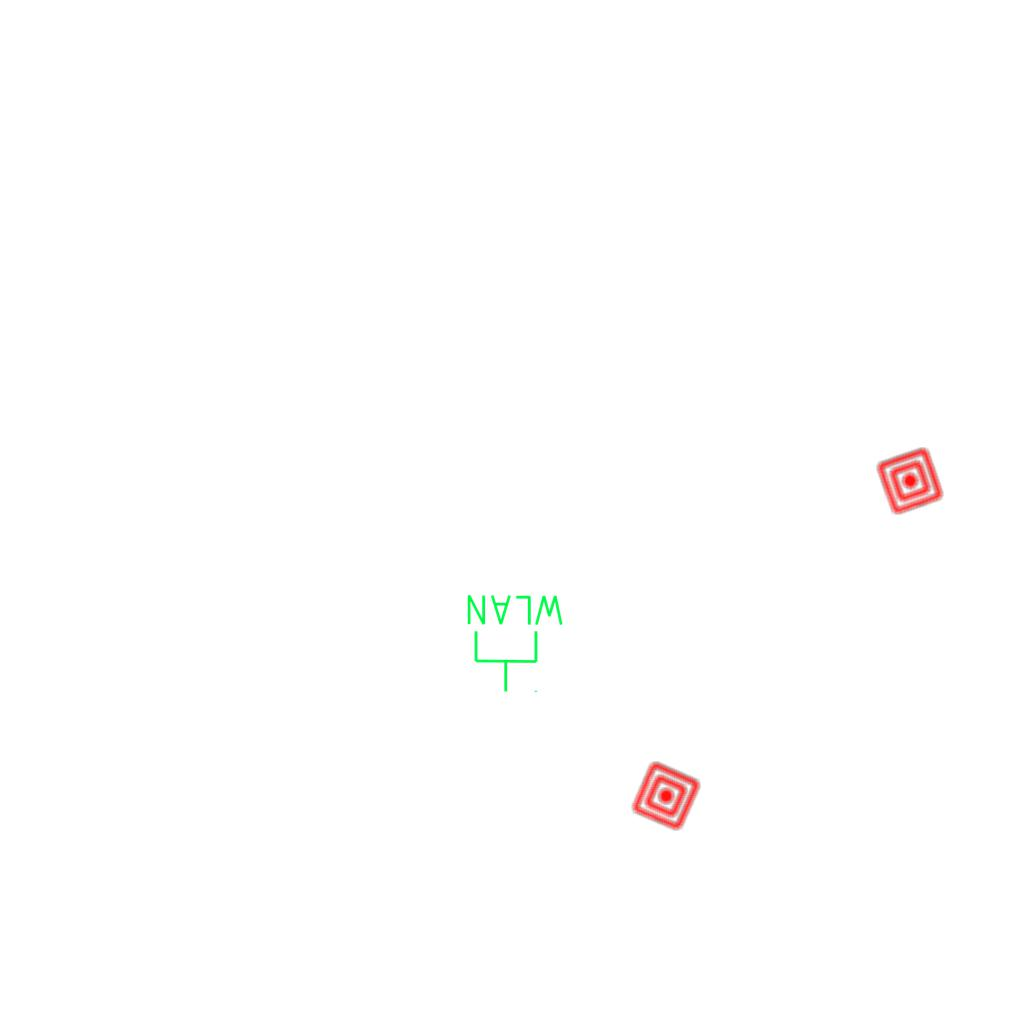NAM-Nichtautomatischer_Melder: (629, 759, 703, 833), (874, 445, 946, 517)
WLAN: (463, 591, 568, 695)
